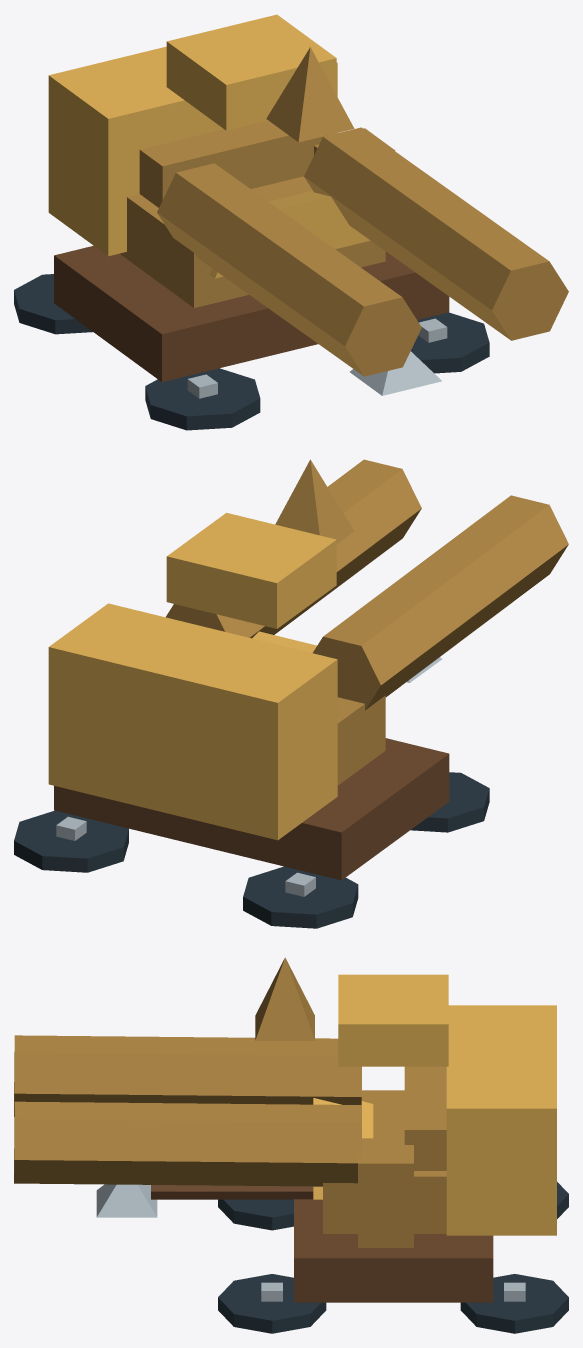
Rendered from heavy-war-machine.obj.
3 views of the same model, one above another, from view 1: azimuth 30°, elevation 25°; view 2: azimuth 150°, elevation 25°; view 3: azimuth 270°, elevation 25° (orthographic). The views are drawn at different scales.
Parts seen in each view (by area): view 1: siege; view 2: siege; view 3: siege.
Boxes of the visible parts, x1=… form: siege: x1=14, y1=14, x2=568, y2=430; siege: x1=14, y1=459, x2=568, y2=928; siege: x1=14, y1=957, x2=568, y2=1333.
Bounding box in the file's own units: 1.9 × 1.78 × 2.97.
